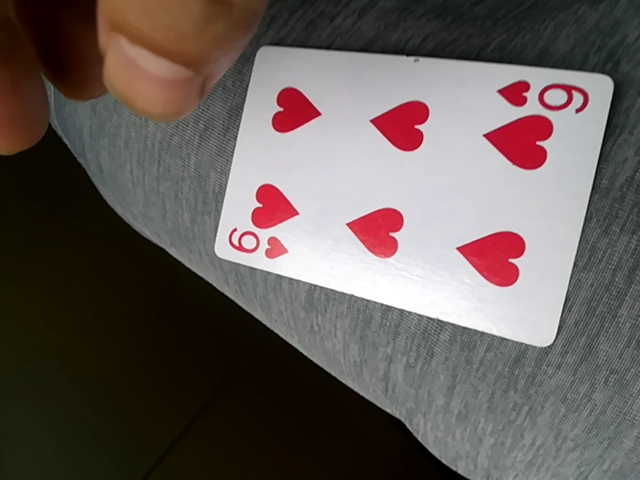hx 6: (215, 44, 618, 350)
